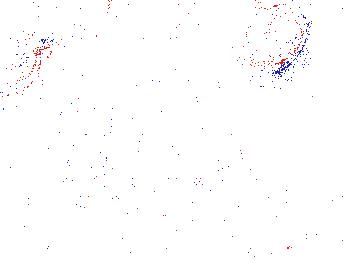moon jellyfish: (244, 6, 309, 74), (173, 1, 273, 44), (1, 16, 44, 98)
